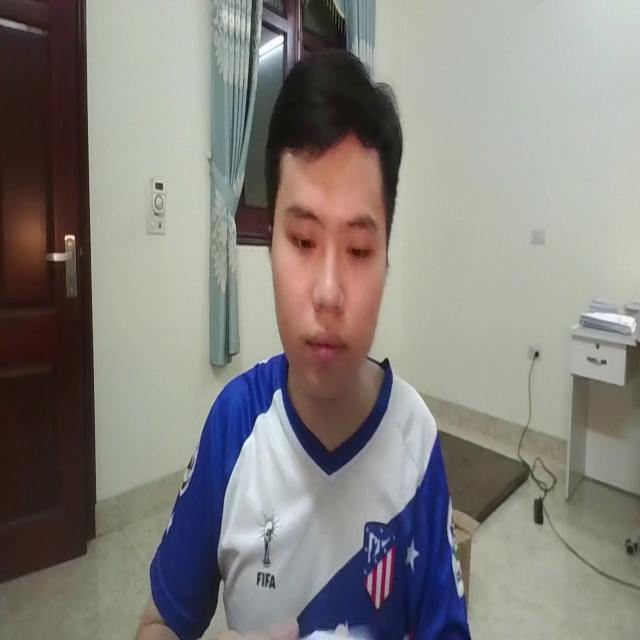student: (103, 46, 504, 640)
